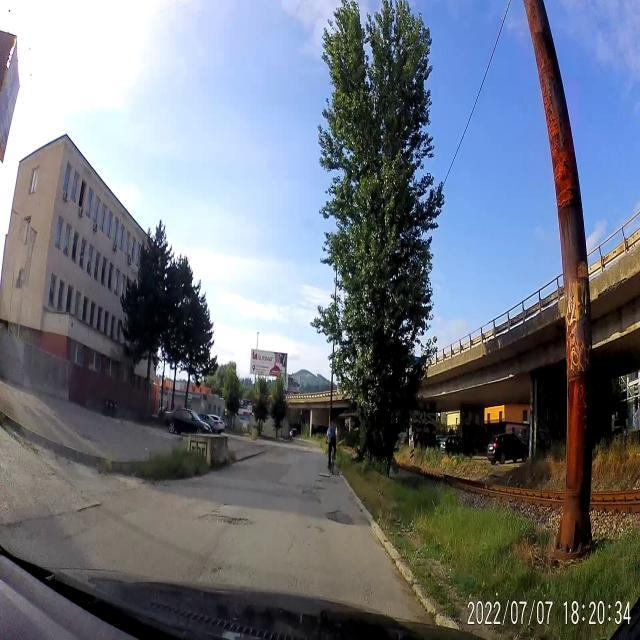Manhole: (318, 470, 332, 479)
Pothole: (202, 507, 254, 532), (322, 502, 356, 532), (296, 482, 326, 494)
